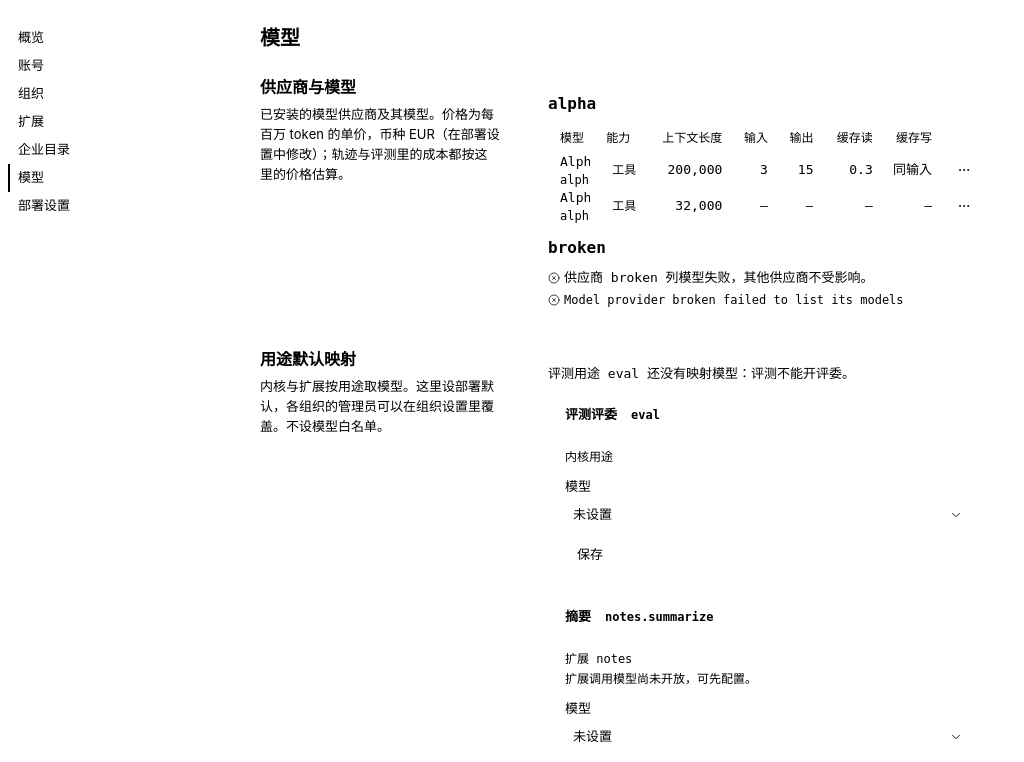
Test: /admin/models（SettingsPage） › 用途默认映射：插件用途旁注、eval 未映射提示；设默认 → PUT，提示消失（zh）
Expected: the text "评测用途 eval 还没有映射模型：评测不能开评委。" is shown, [548,366,855,381]
Expected: the text "扩展调用模型尚未开放，可先配置。" is shown, [565,672,757,686]
Select "alpha / Alpha Large" in the dropdown labelled "模型" below "内核用途" at coordinates (753, 515), box [565,502,941,528]
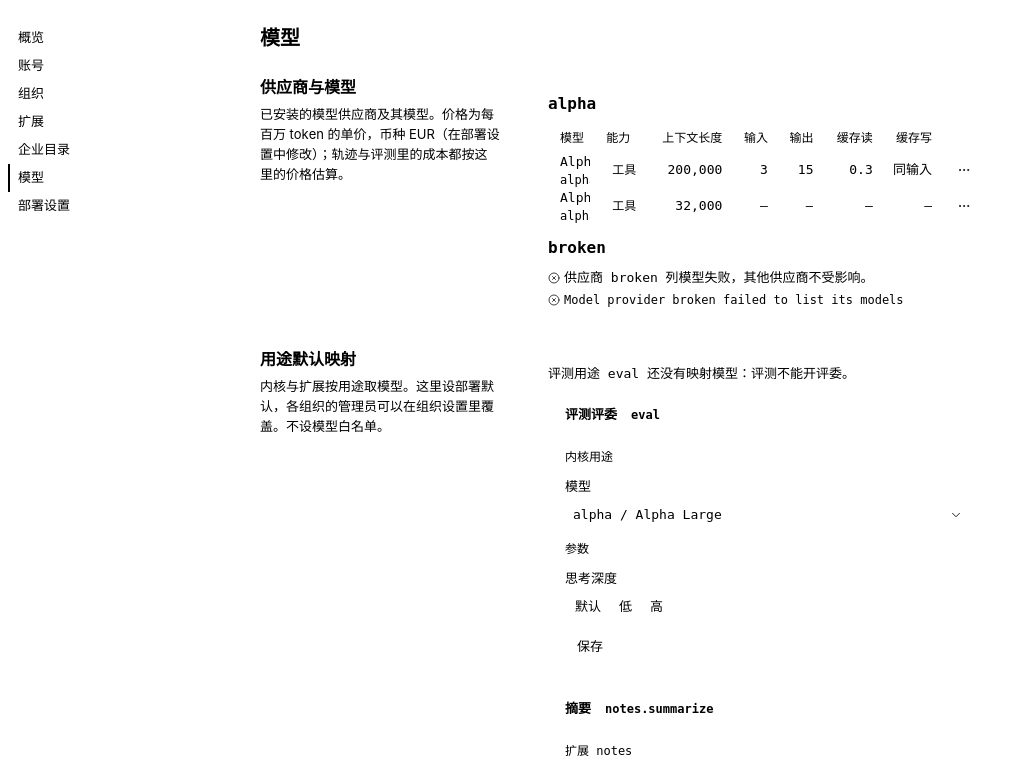
选中模型后出现它的参数（复用 ModelParams）
Click the radio button labelled "高" at coordinates (656, 607), box [642,595,671,619]
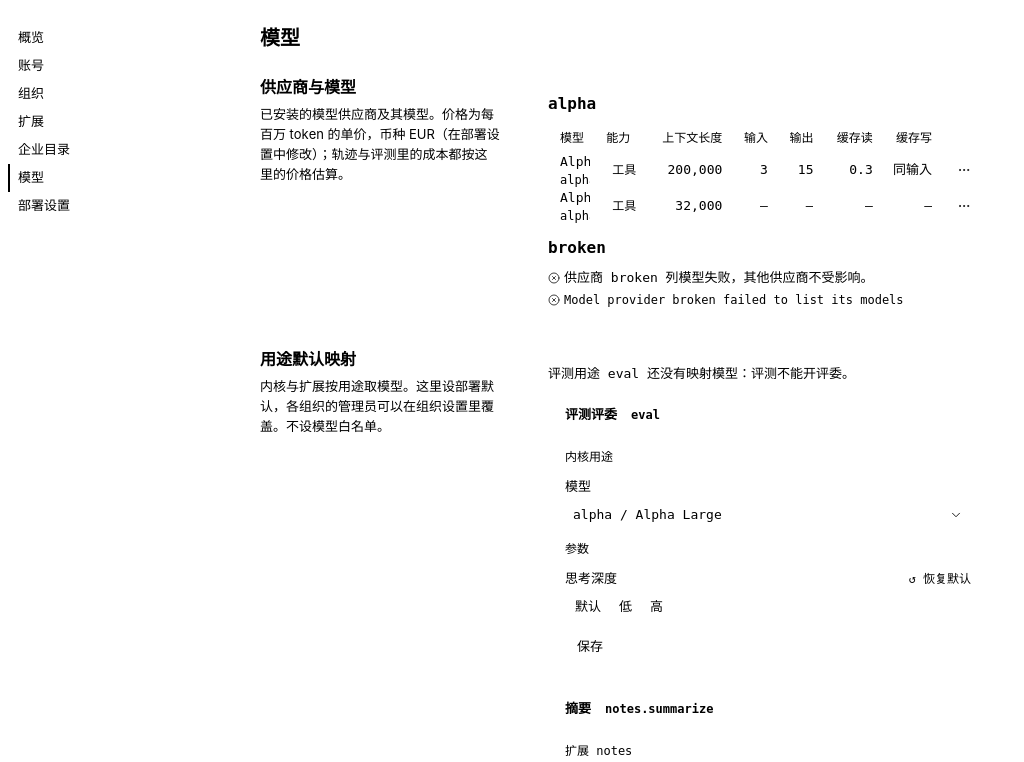
Click the button "保存" at coordinates (590, 647), box [565,633,615,661]
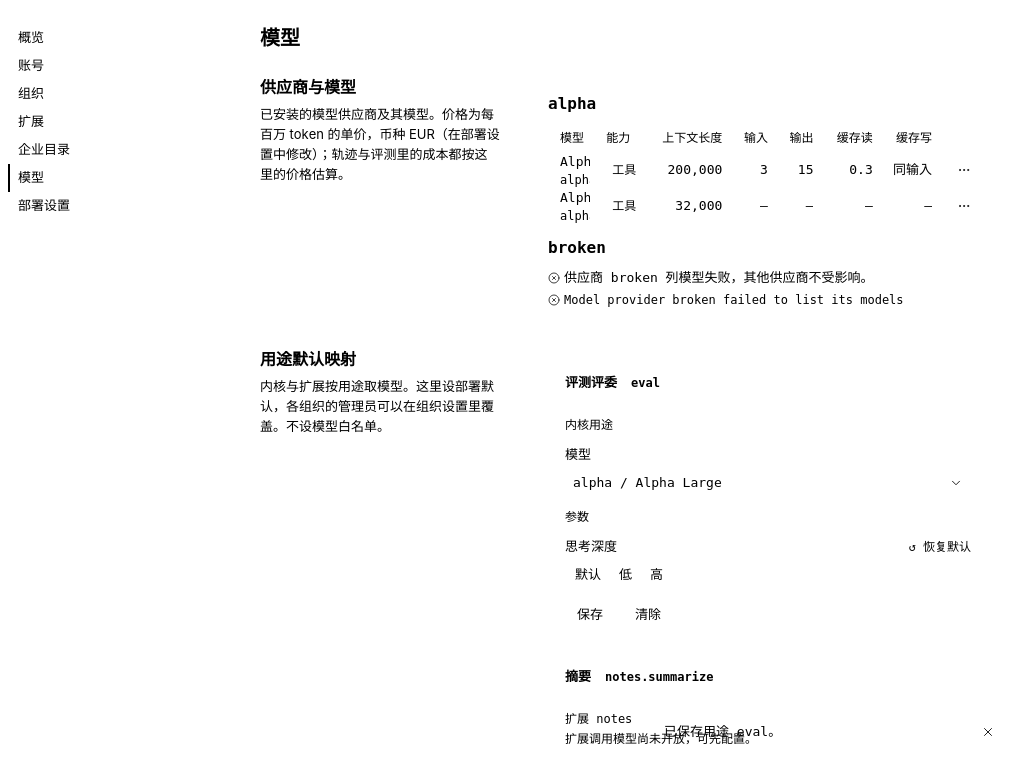
Result: the text "评测用途 eval 还没有映射模型：评测不能开评委。" is gone
